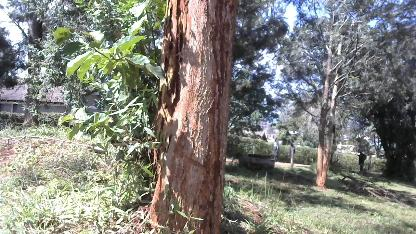tree: (143, 0, 238, 234)
